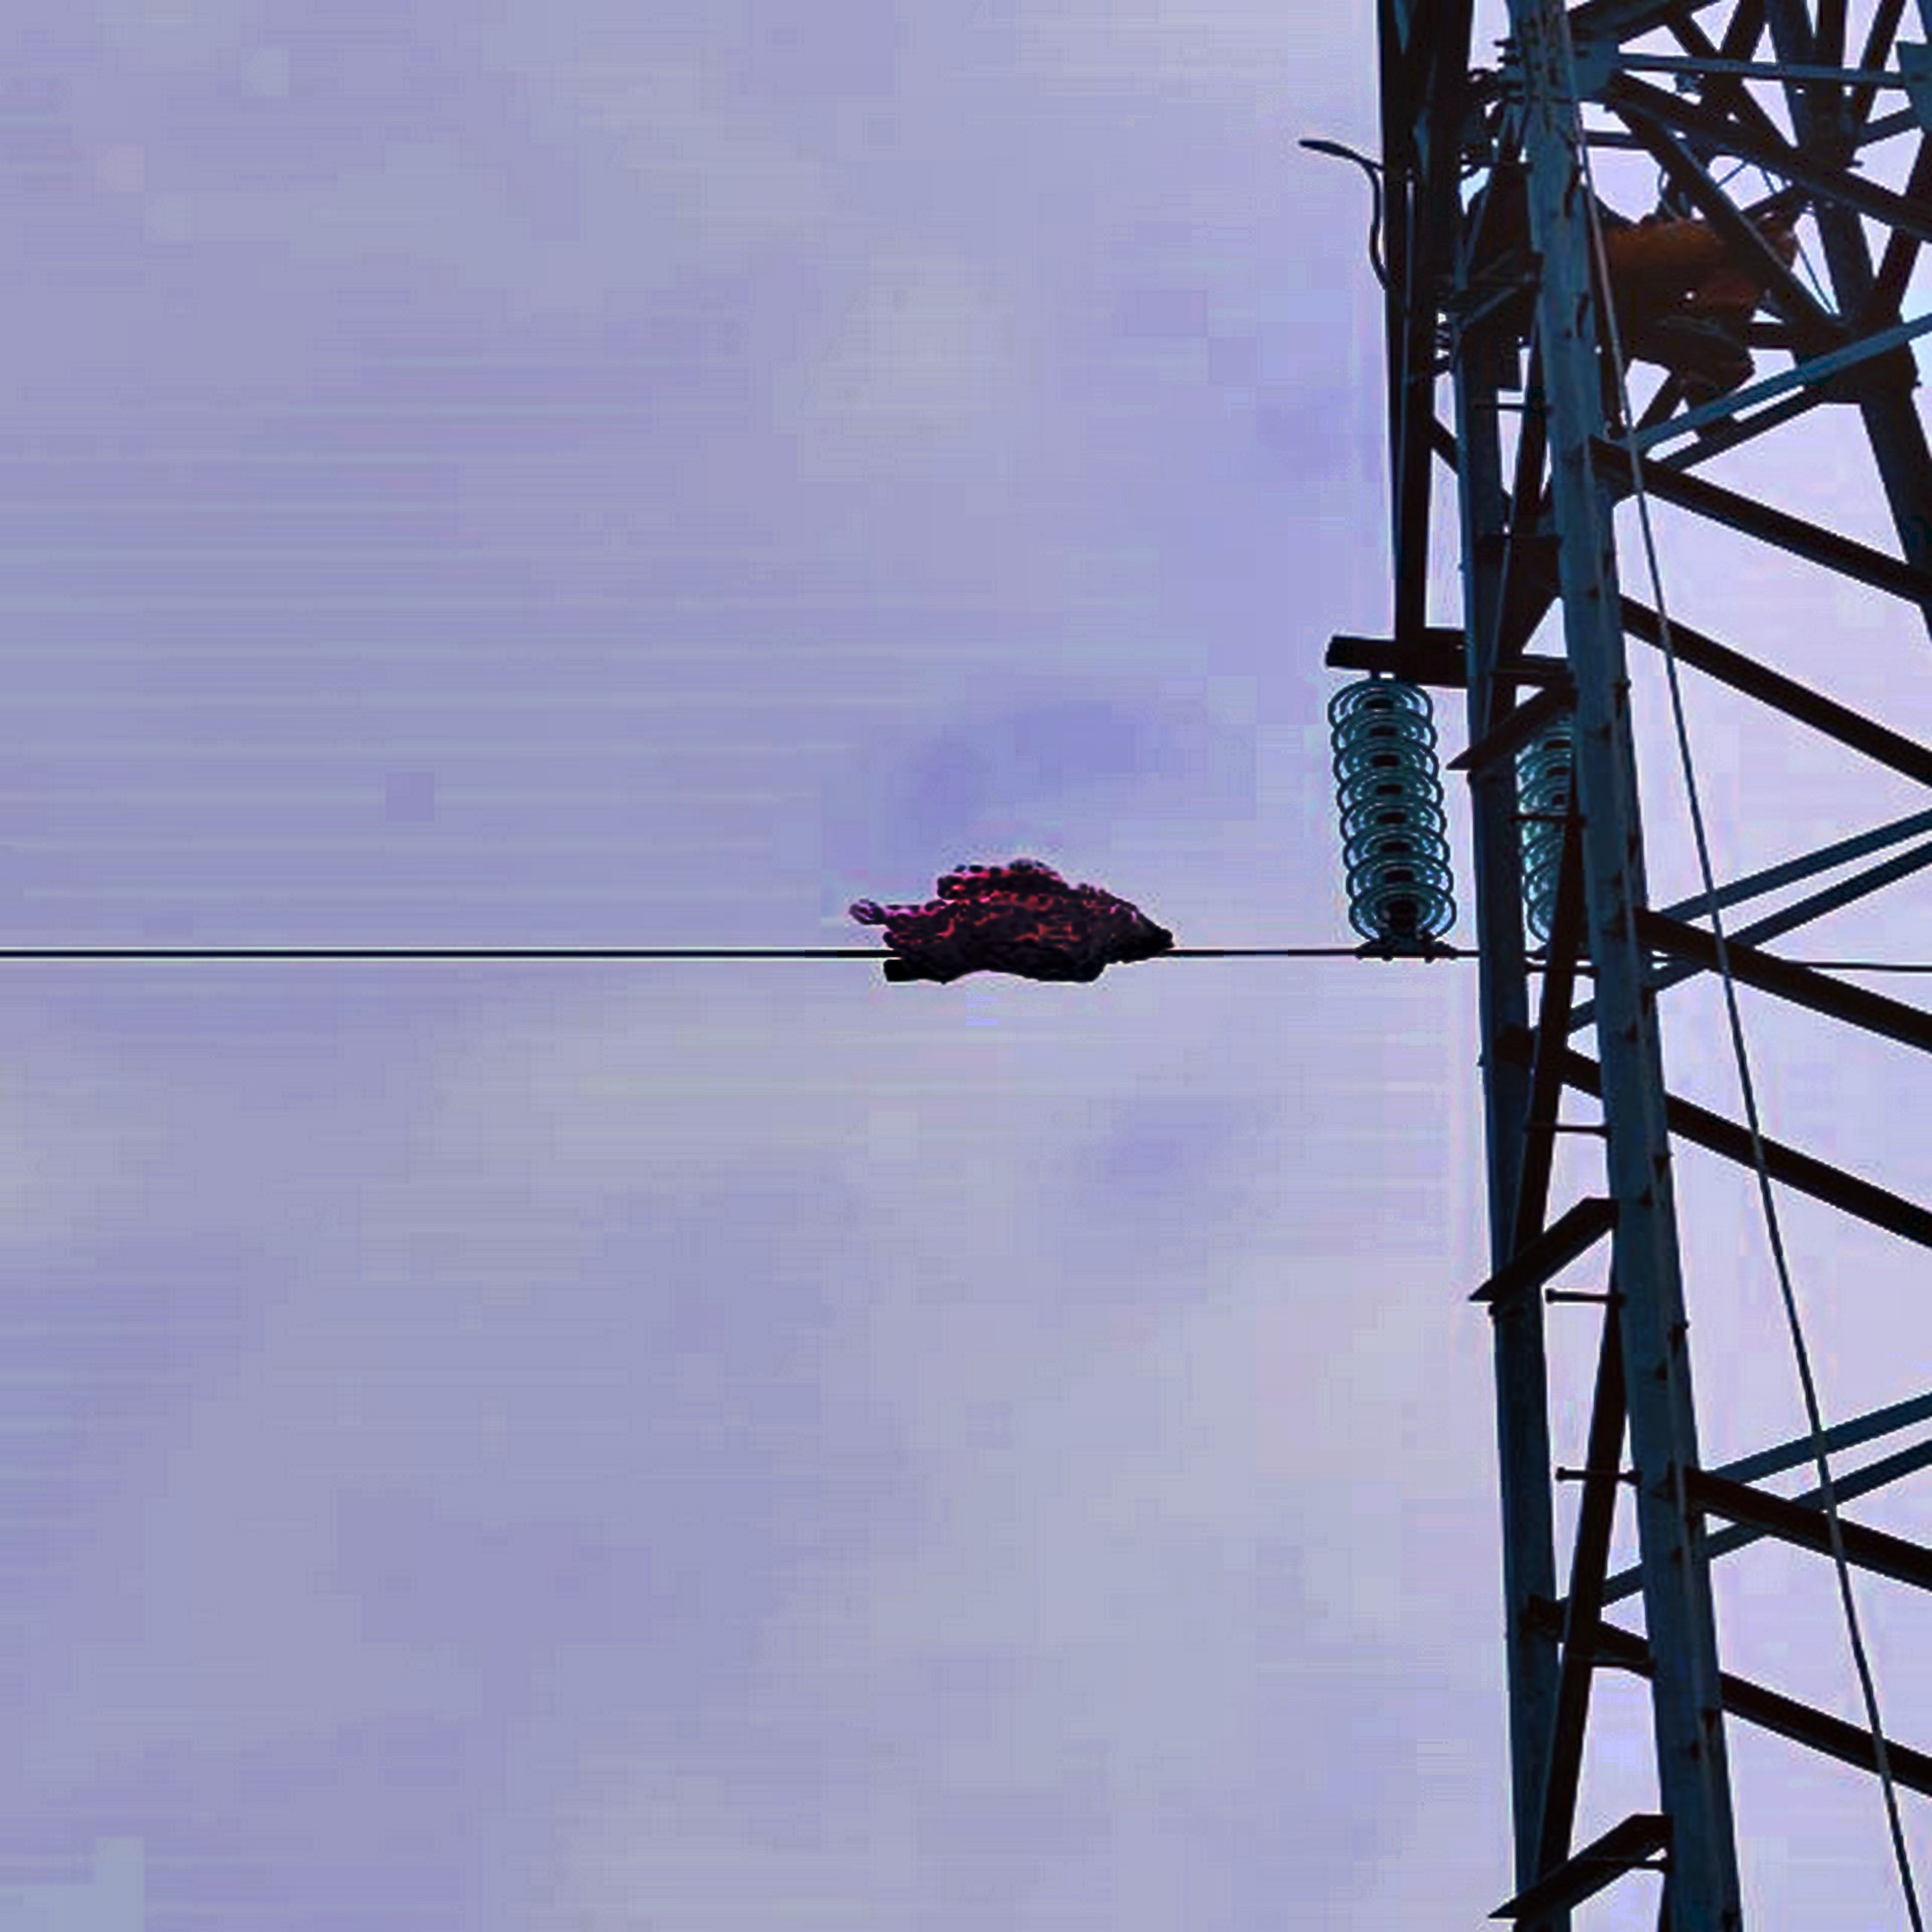wire foreign body: (839, 835, 1198, 1056)
